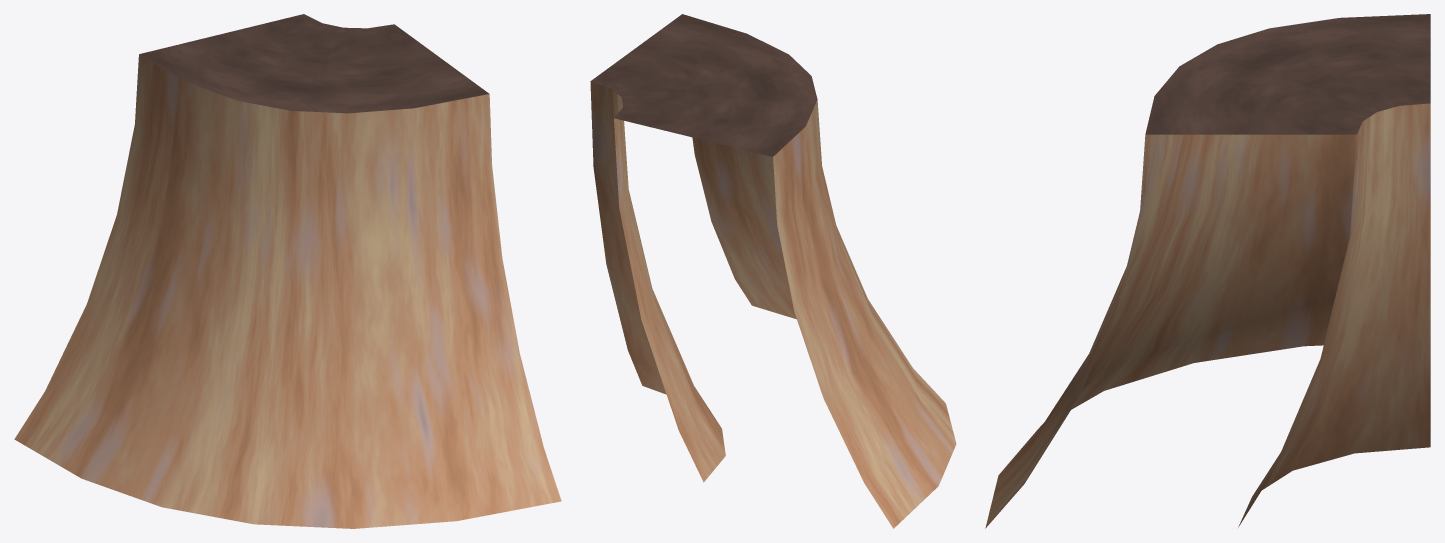
File: FI_040_francos_building_wall_short_round_corner.glb
3 views of the same model, side by side, from view 1: azimuth 30°, elevation 25°; view 2: azimuth 150°, elevation 25°; view 3: azimuth 270°, elevation 25° (orthographic). The views are drawn at different scales.
Parts seen in each view (by area): view 1: round_corner_short; view 2: round_corner_short; view 3: round_corner_short.
Boxes of the visible parts, <box> form: round_corner_short: <box>14,14,561,528</box>; round_corner_short: <box>590,14,956,528</box>; round_corner_short: <box>985,14,1430,528</box>.
Bounding box in the file's own units: 1.49 × 1.46 × 1.49.
2 materials, 2 textured.
